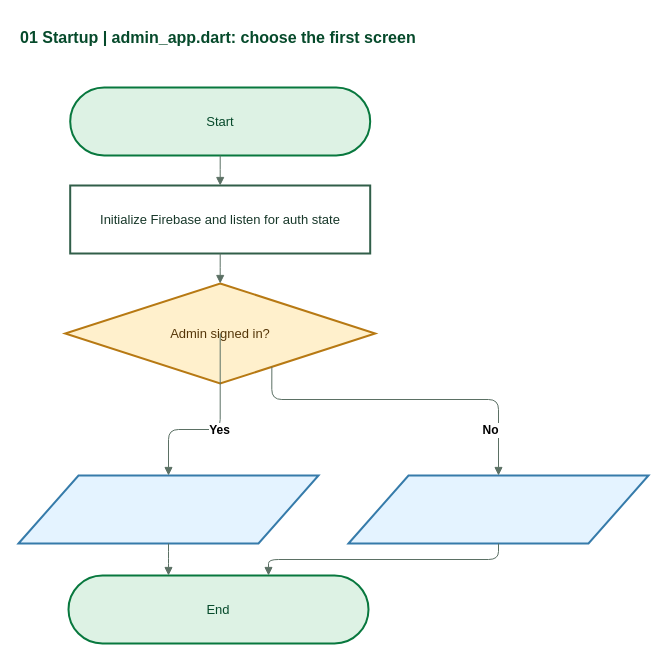
This 666x661 diagram has some shape labels left out. The box of each missing label's shape, as (x1, y1, x2, y2) in pixels:
Display Admin Shell: (17, 474, 319, 544)
Display Login page: (347, 474, 649, 544)
